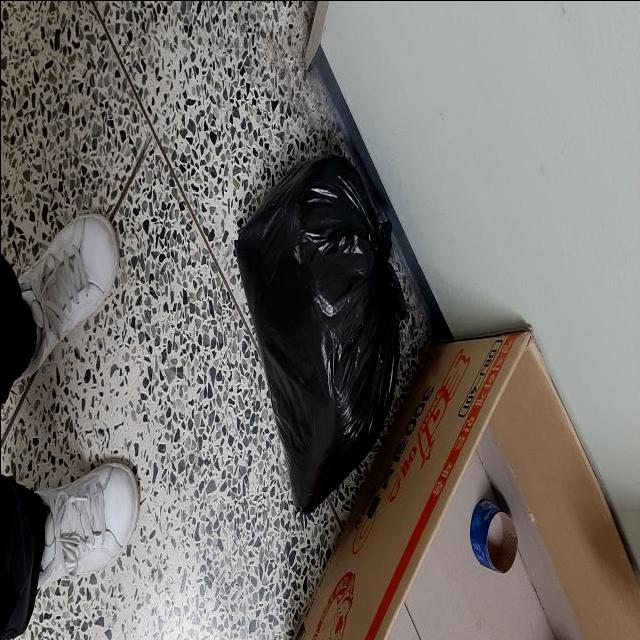black_bag: (233, 145, 413, 518)
